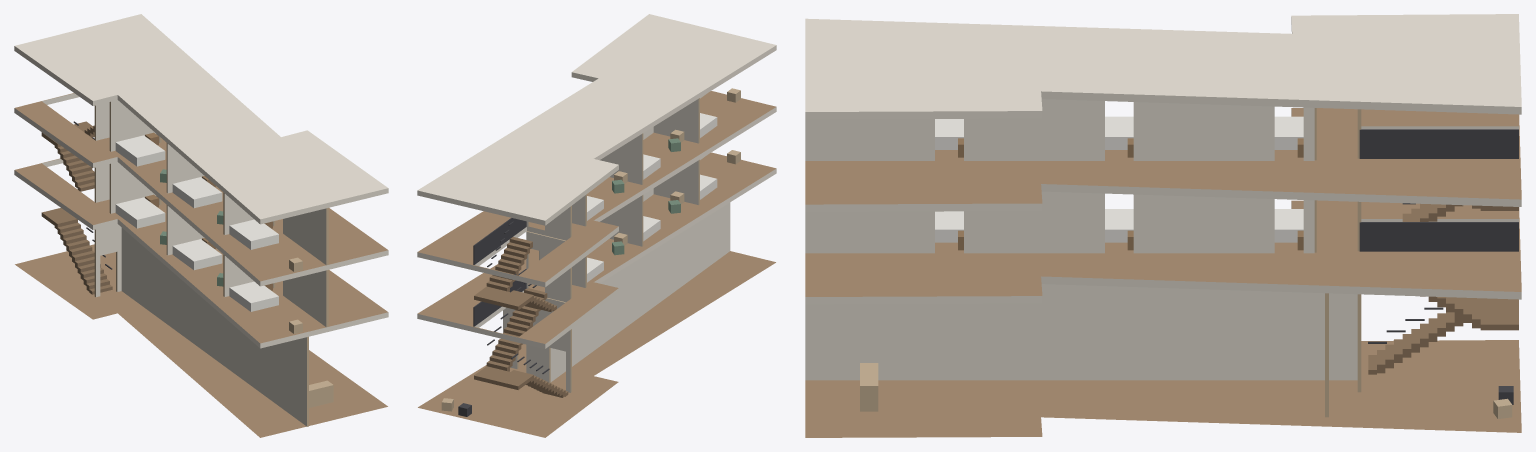
Rendered from interior.glb.
3 renders of one model, left to right at view 1: azimuth 30°, elevation 25°; view 2: azimuth 150°, elevation 25°; view 3: azimuth 270°, elevation 25°, orthographic. The views are drawn at different scales.
Visible parts, largest first — view 1: slabs, partitions, coarse-s2, coarse-s1, stair, coarse-s0; view 2: slabs, partitions, stair, coarse-s1, coarse-s2; view 3: slabs, partitions, stair, coarse-s1, coarse-s2, coarse-s0.
Boxes of the visible parts, x1,y1,x2,y2 form: slabs: [14, 14, 388, 437]; partitions: [94, 100, 328, 426]; coarse-s2: [115, 132, 302, 271]; coarse-s1: [115, 194, 302, 333]; stair: [41, 121, 112, 294]; coarse-s0: [309, 380, 333, 407]; slabs: [417, 14, 776, 437]; partitions: [503, 93, 730, 392]; stair: [473, 218, 568, 397]; coarse-s1: [587, 150, 740, 282]; coarse-s2: [587, 88, 740, 220]; slabs: [805, 14, 1521, 437]; partitions: [805, 99, 1361, 417]; stair: [1359, 129, 1518, 374]; coarse-s1: [935, 209, 1303, 250]; coarse-s2: [935, 116, 1303, 157]; coarse-s0: [860, 363, 1513, 418].
Size of the model in its own units: 7.25 by 11.26 by 22.4.
